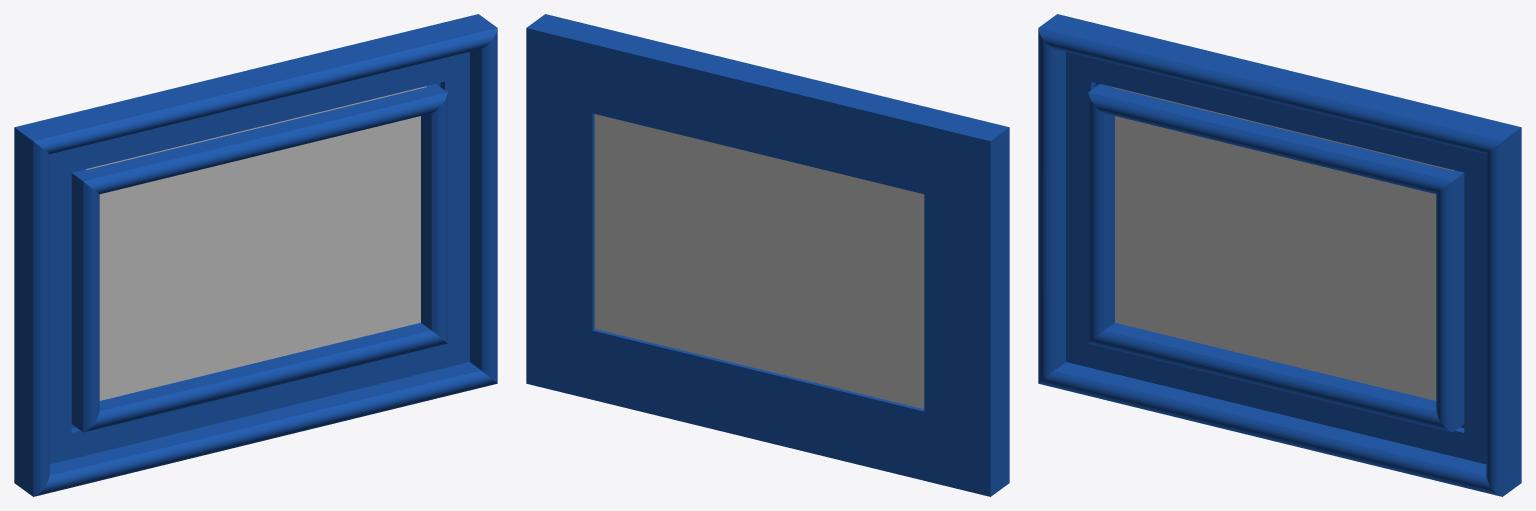
Rendered from puff.obj.
3 views of the same model, side by side, from view 1: azimuth 30°, elevation 25°; view 2: azimuth 150°, elevation 25°; view 3: azimuth 330°, elevation 25° (orthographic).
Parts seen in each view (by area): view 1: Rectangle001, Box001; view 2: Rectangle001, Box001; view 3: Rectangle001, Box001.
Part boxes in pixels (<box>): Rectangle001: <box>14,14,497,496</box>; Box001: <box>85,86,426,400</box>; Rectangle001: <box>526,14,1009,496</box>; Box001: <box>594,114,924,409</box>; Rectangle001: <box>1038,14,1521,496</box>; Box001: <box>1112,87,1453,400</box>.
Bounding box in the file's own units: 1119 × 819 × 90.85.
